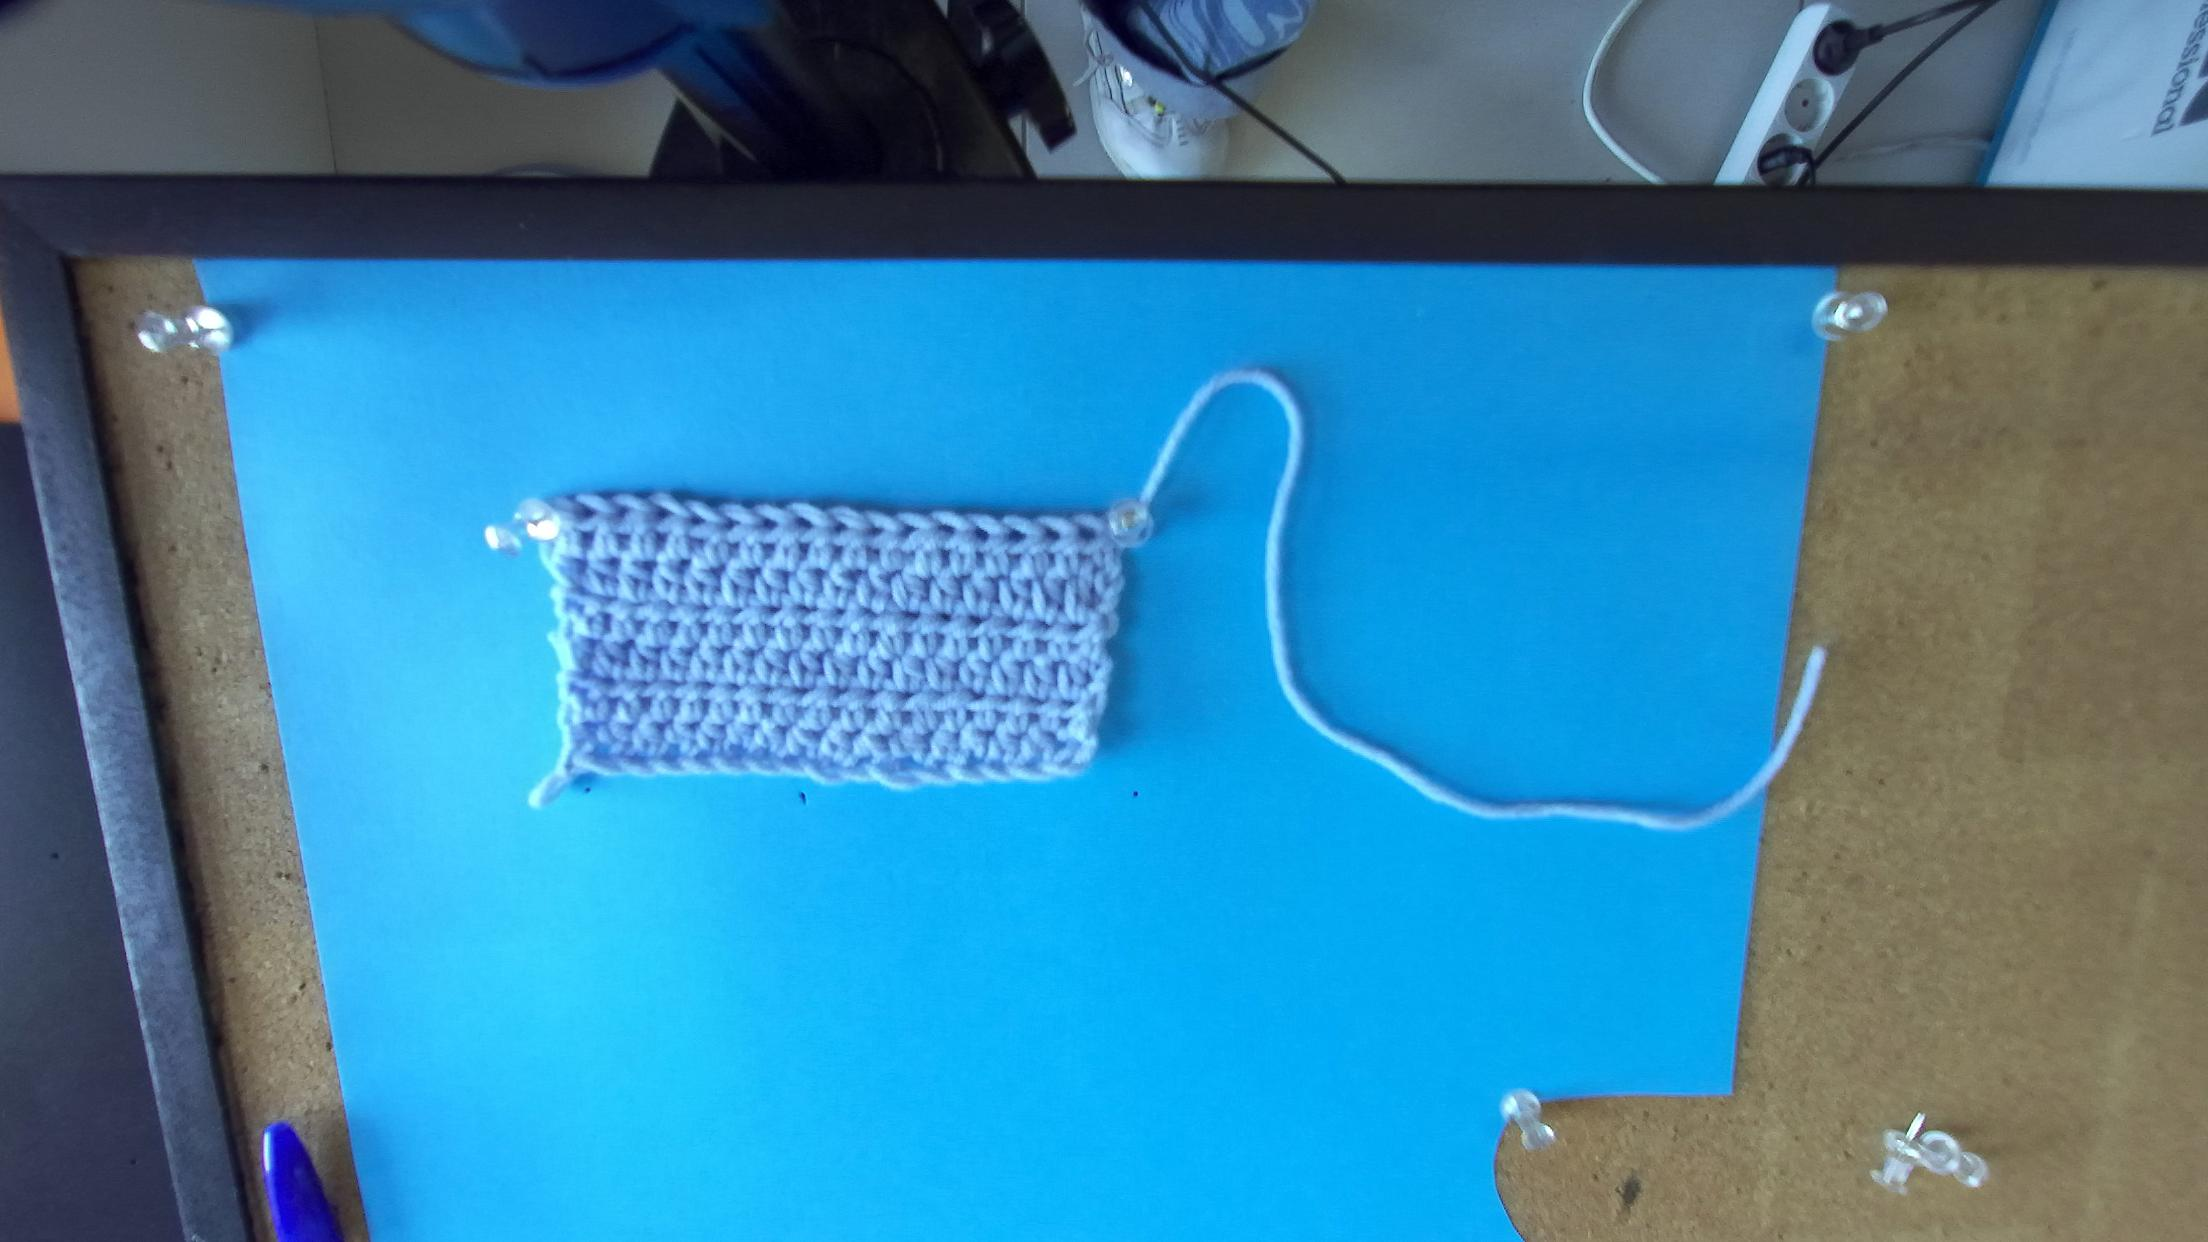hole: (972, 525, 992, 544), (575, 503, 597, 520), (1004, 528, 1025, 544), (682, 513, 707, 526), (611, 505, 632, 520), (657, 507, 673, 523), (899, 523, 917, 538), (1042, 526, 1060, 541), (864, 523, 884, 537), (1077, 526, 1096, 540), (760, 517, 779, 529), (834, 520, 849, 535), (795, 517, 816, 528), (725, 517, 743, 529), (937, 525, 955, 537)
swatch: (508, 490, 1143, 795)
